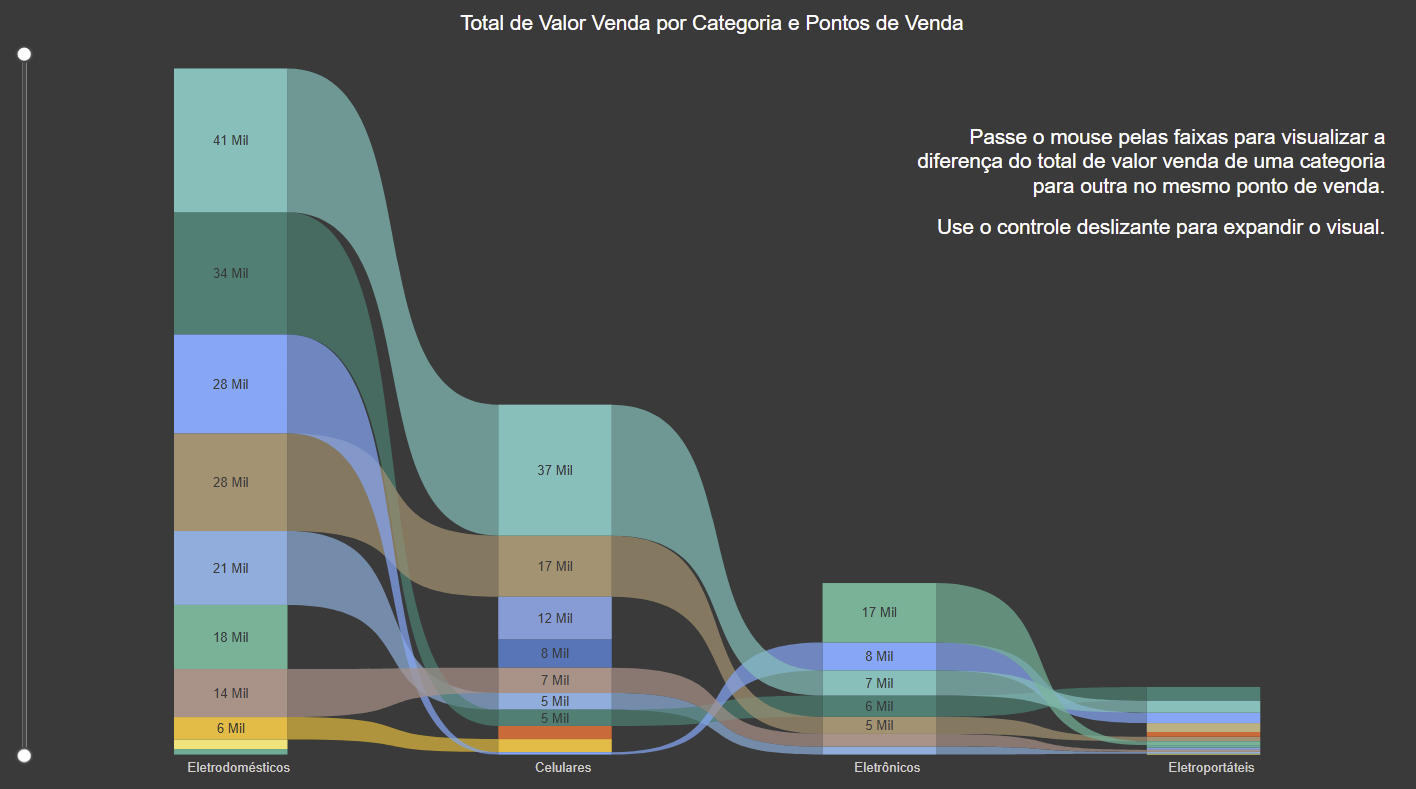

The dashboard page shown, as its layout file describes it:
{"tool":"powerbi","page":{"name":"Faixas de Vendas Por Categoria e Pontos de  Venda","canvas":[1280,720],"ordinal":3},"visuals":[{"type":"ribbonChart","title":"Total de Valor Venda por Categoria e Pontos de Venda","fields":{"Y":["Sum(Vendas.ValorVenda)"],"Category":["Vendas.Categoria"],"Series":["Vendas.Loja"]},"box":[12.2,13.4,1256.6,695.6],"z":0},{"type":"textbox","box":[785.5,110.9,464.9,146.9],"z":1000}]}

Visuals, with their boxes in screenshot pixels (x1, y1, x2, y2), scaled from the page's 1280x720 canvas onto the 1416x789 screenshot:
"Total de Valor Venda por Categoria e Pontos de Venda" ribbonChart: bbox(13, 15, 1404, 777)
textbox: bbox(869, 122, 1383, 283)
